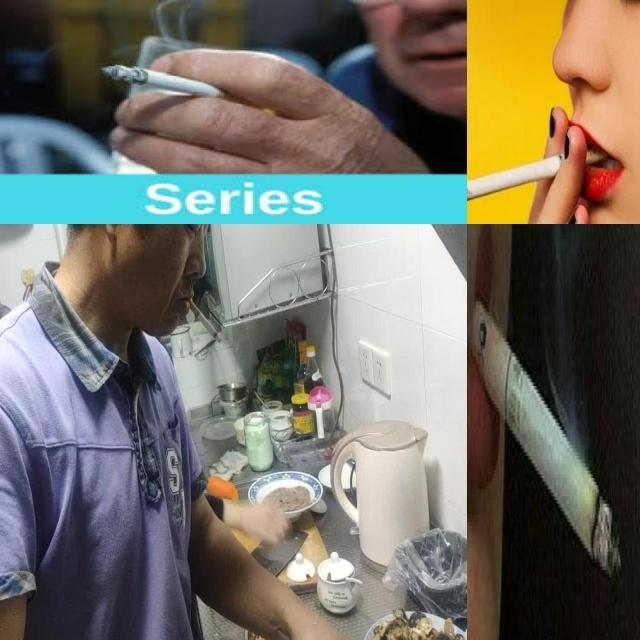cigarette: (468, 290, 622, 580), (466, 146, 610, 204), (103, 64, 265, 110), (188, 297, 220, 340)
